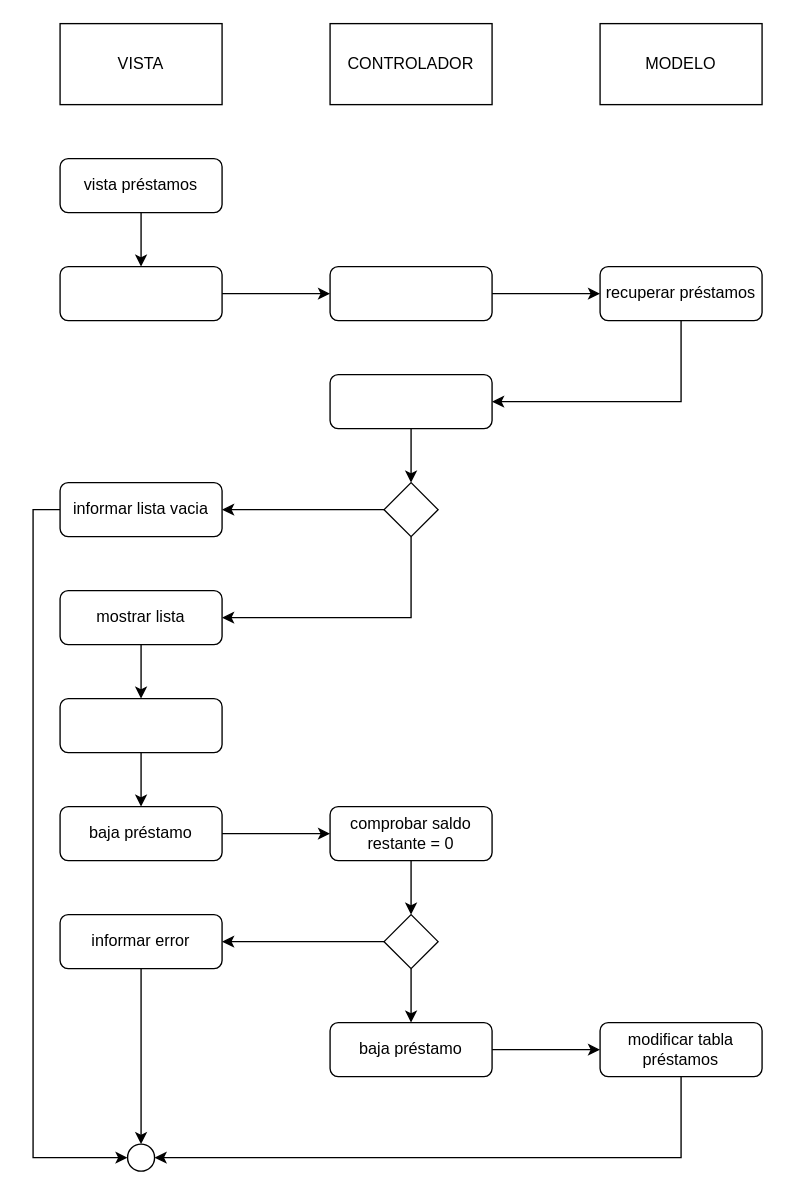
The diagram is 786 pixels wide and 1195 high, and some of its shapes have lost their labels. The shapes that lost their labels are listed below. From the top down, each one's centre as x and y in pixels, then its label:
At [140,293]: "listar préstamos".
At [410,293]: "recuperar lista préstamo".
At [410,401]: "comprobar lista".
At [140,725]: "seleccionar préstamo".
